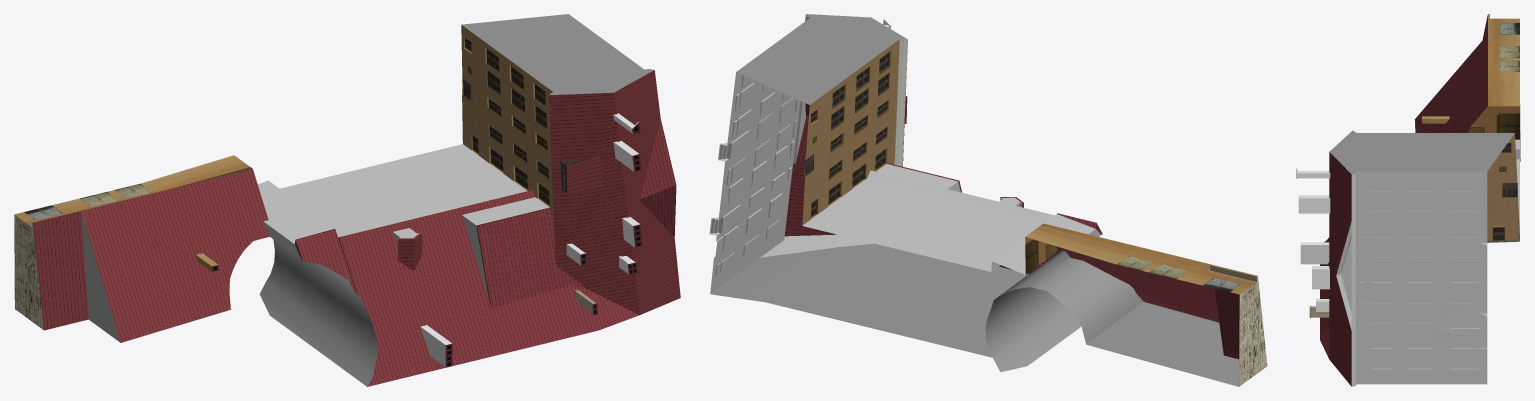
The model's file is Toom-Kooli_9-origo.obj.
3 renders of one model, left to right at view 1: azimuth 30°, elevation 25°; view 2: azimuth 150°, elevation 25°; view 3: azimuth 270°, elevation 25°, orthographic. The views are drawn at different scales.
Parts seen in each view (by area): view 1: Toom_Kooli_9; view 2: Toom_Kooli_9; view 3: Toom_Kooli_9.
Boxes of the visible parts, <box> form: Toom_Kooli_9: <box>14,14,680,386</box>; Toom_Kooli_9: <box>709,14,1267,386</box>; Toom_Kooli_9: <box>1296,14,1520,386</box>.
Bounding box in the file's own units: 53.31 × 21 × 21.22.
